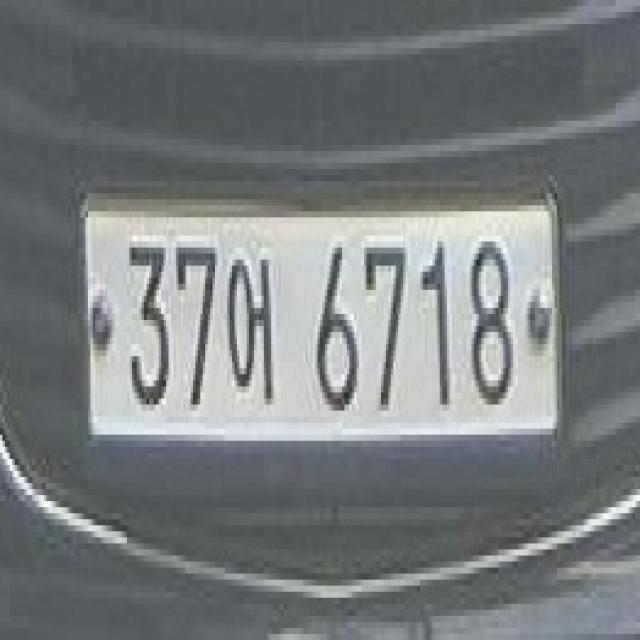1: (420, 242, 452, 404)
3: (122, 235, 176, 410)
6: (315, 242, 359, 410)
7: (364, 242, 408, 416), (171, 242, 217, 404)
8: (466, 230, 511, 404)
eo: (227, 248, 276, 410)
license_plate: (80, 175, 562, 453)
